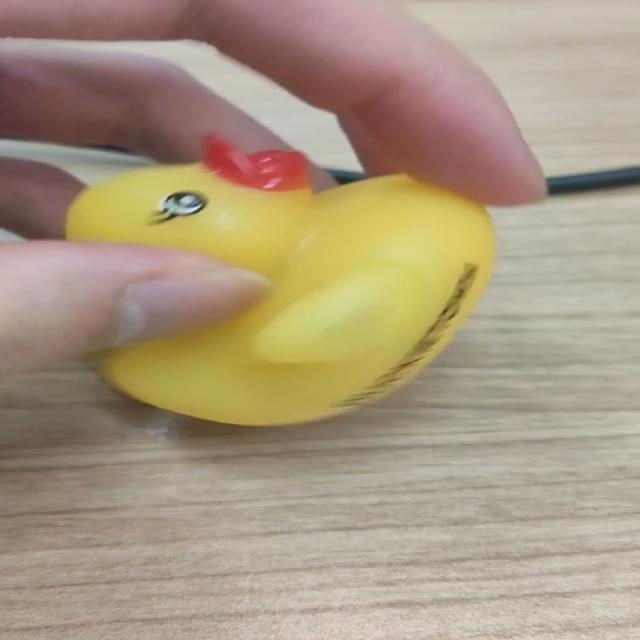rubber-duck: (65, 138, 492, 423)
